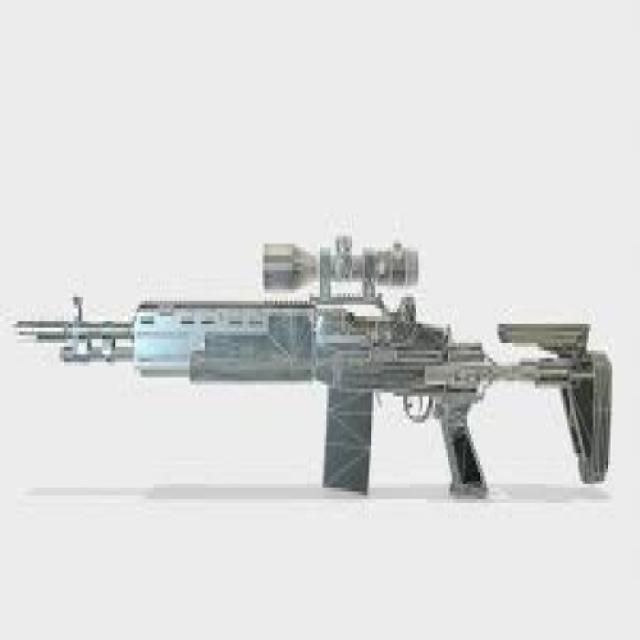Gun: (18, 214, 640, 513)
